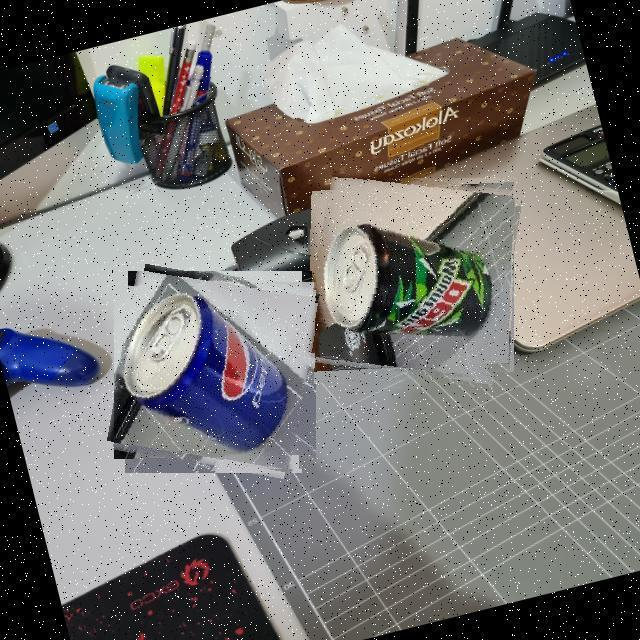recyclable: (310, 178, 516, 384), (114, 271, 316, 473)
